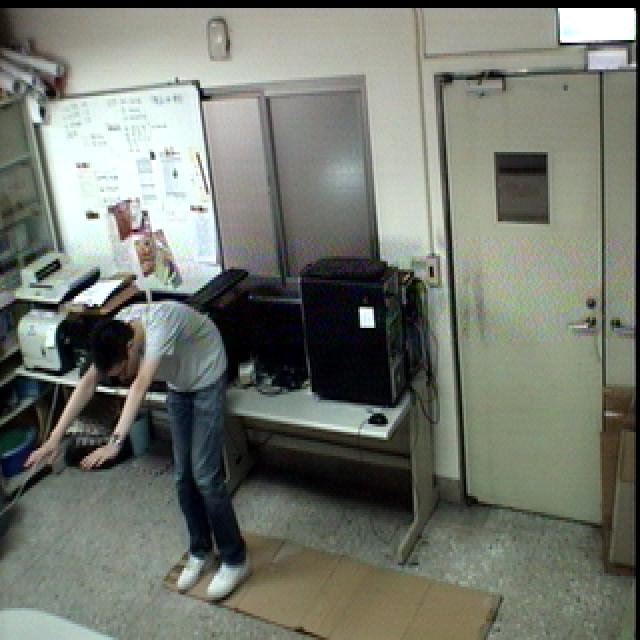bend: (22, 303, 255, 605)
